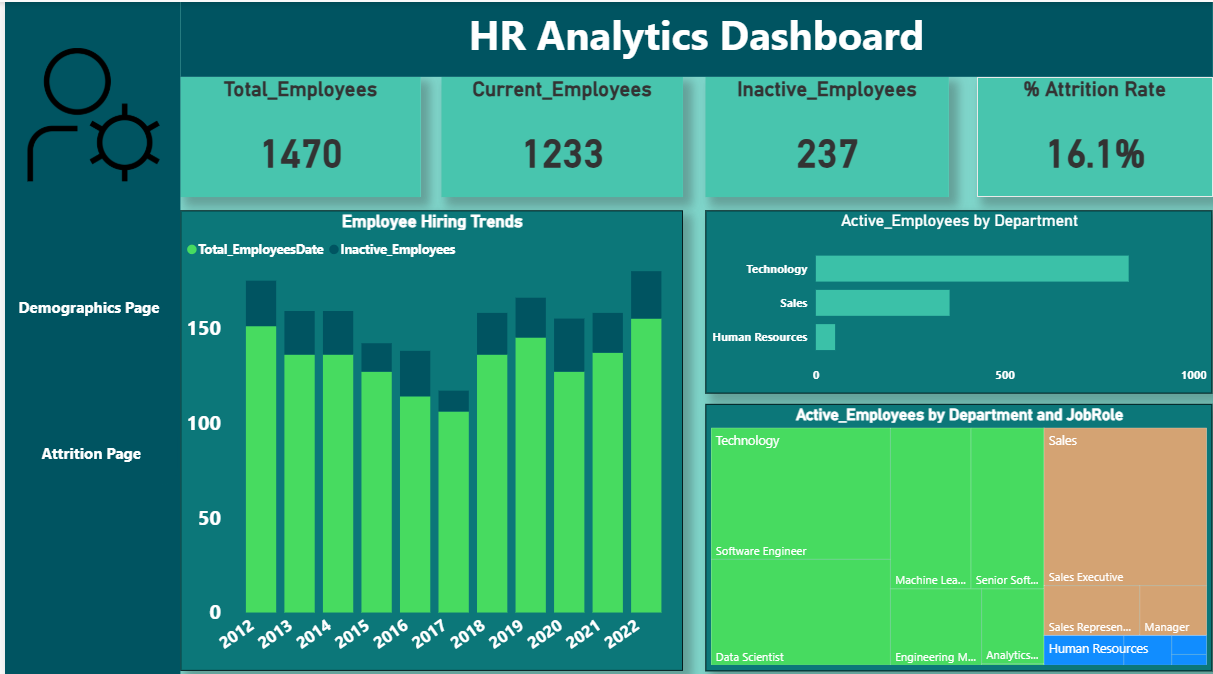

This screenshot's page, from the dashboard's own definition file:
{"tool":"powerbi","page":{"name":"Overview","canvas":[1280,720],"ordinal":0},"visuals":[{"type":"card","title":"Total_Employees","fields":{"Values":["_Measures.Total Employees"]},"box":[186.1,79.5,254.5,127.2],"z":0},{"type":"card","title":"Current_Employees","fields":{"Values":["_Measures.Active_Employees"]},"box":[462.9,79.5,256.1,127.2],"z":1000},{"type":"card","title":"Inactive_Employees","fields":{"Values":["_Measures.Inactive_Employees"]},"box":[742.8,79.5,257.7,127.2],"z":2000},{"type":"card","title":"% Attrition Rate","fields":{"Values":["_Measures.Attration Rate %"]},"box":[1030.7,79.5,249.7,127.2],"z":3000},{"type":"columnChart","title":"Employee Hiring Trends","fields":{"Y":["_Measures.Total_EmployeesDate","_Measures.Inactive_Employees"],"Category":["DimDate.Date.Variation.Date Hierarchy.Year","DimDate.Date.Variation.Date Hierarchy.Quarter","DimDate.Date.Variation.Date Hierarchy.Month","DimDate.Date.Variation.Date Hierarchy.Day"]},"box":[186.1,221.1,532.9,488.3],"z":4000},{"type":"barChart","fields":{"Category":["Dim_Employee.Department"],"Y":["_Measures.Active_Employees"]},"box":[742.8,221.1,537.6,194.1],"z":5000},{"type":"treemap","fields":{"Values":["_Measures.Active_Employees"],"Group":["Dim_Employee.Department"],"Details":["Dim_Employee.JobRole"]},"box":[742.8,426.3,537.6,283.1],"z":6000},{"type":"textbox","box":[186.1,0,1094.3,79.5],"z":7000},{"type":"textbox","box":[0,0,186.1,720.5],"z":8000},{"type":"shape","box":[0,286.3,178.1,74.8],"z":8500},{"type":"image","box":[23.9,17.5,141.6,203.6],"z":9000},{"type":"shape","box":[0,443.8,182.9,68.4],"z":10000}]}

Visuals, with their boxes in screenshot pixels (x1, y1, x2, y2), scaled from the page's 1280x720 canvas onto the 1213x674 screenshot:
"Total_Employees" card: crop(176, 74, 418, 193)
"Current_Employees" card: crop(439, 74, 681, 193)
"Inactive_Employees" card: crop(704, 74, 948, 193)
"% Attrition Rate" card: crop(977, 74, 1212, 193)
"Employee Hiring Trends" columnChart: crop(176, 207, 681, 664)
barChart - Dim_Employee.Department x _Measures.Active_Employees: crop(704, 207, 1212, 389)
treemap - _Measures.Active_Employees x Dim_Employee.Department: crop(704, 399, 1212, 664)
textbox: crop(176, 0, 1212, 74)
textbox: crop(0, 0, 176, 673)
shape: crop(0, 268, 169, 338)
image: crop(23, 16, 157, 207)
shape: crop(0, 415, 173, 479)
